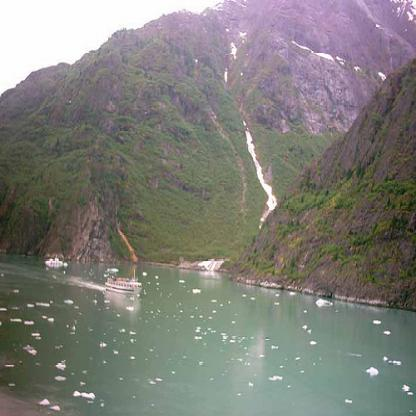boat: (104, 268, 142, 296)
